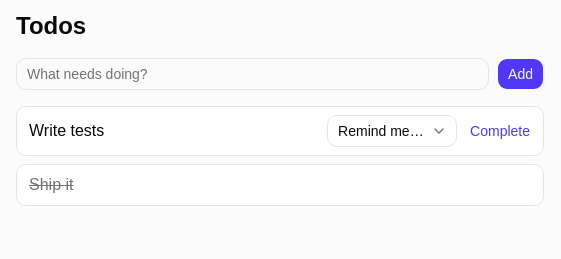
TodoList › sets a reminder and confirms when it is due
Expected: the text "Write tests" is shown, x1=29 y1=119 x2=104 y2=143
Step 1. Select "in 1 hour" in the dropdown named "Remind me about Write tests" → (392, 131), box x1=327 y1=115 x2=457 y2=147
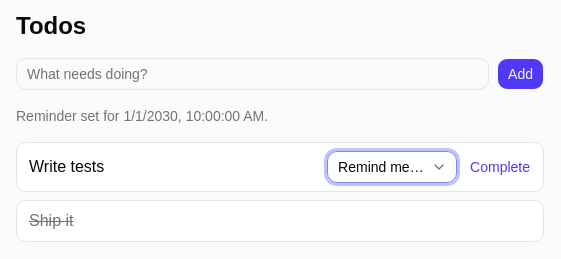
Expected: the message shows "Reminder set for", x1=16 y1=108 x2=123 y2=124
